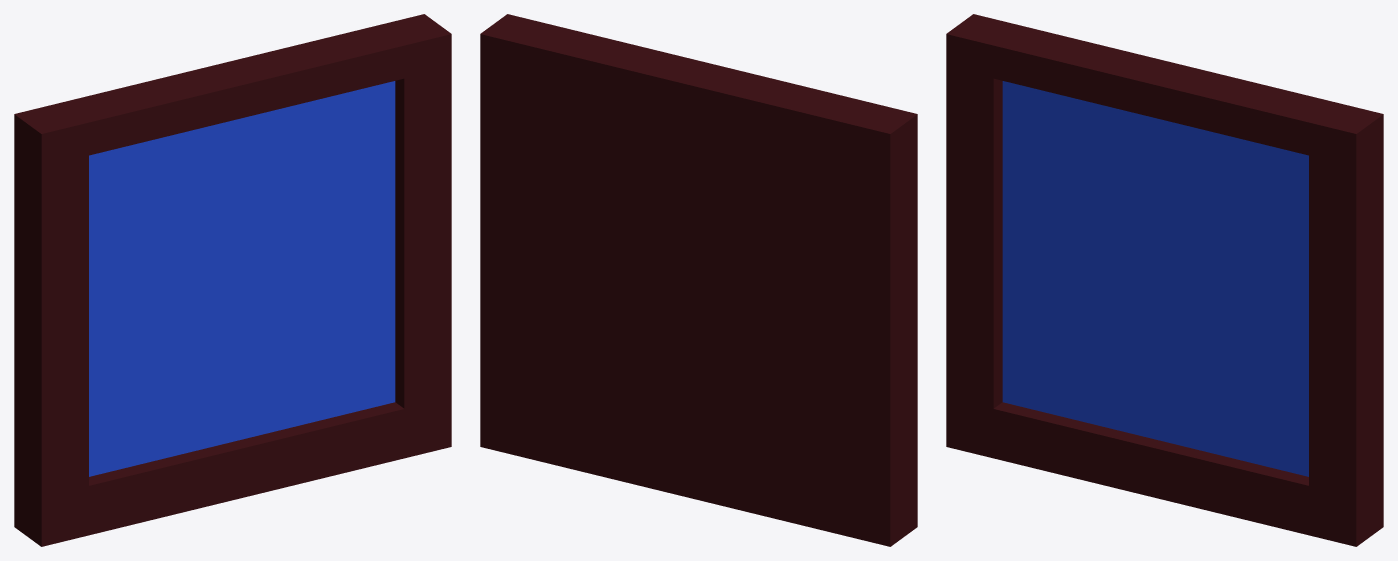
The model's file is window.fbx.
The picture shows the model from 3 angles, left to right: view 1: azimuth 30°, elevation 25°; view 2: azimuth 150°, elevation 25°; view 3: azimuth 330°, elevation 25°; orthographic projection.
Parts seen in each view (by area): view 1: Cube.001, Cube; view 2: Cube; view 3: Cube.001, Cube.
Boxes of the visible parts, x1,y1,x2,y2 form: Cube.001: (89, 81, 395, 476); Cube: (14, 14, 451, 546); Cube: (480, 14, 917, 546); Cube.001: (1002, 81, 1308, 476); Cube: (946, 14, 1383, 546).
Bounding box in the file's own units: 2.6 × 2.5 × 0.3.
